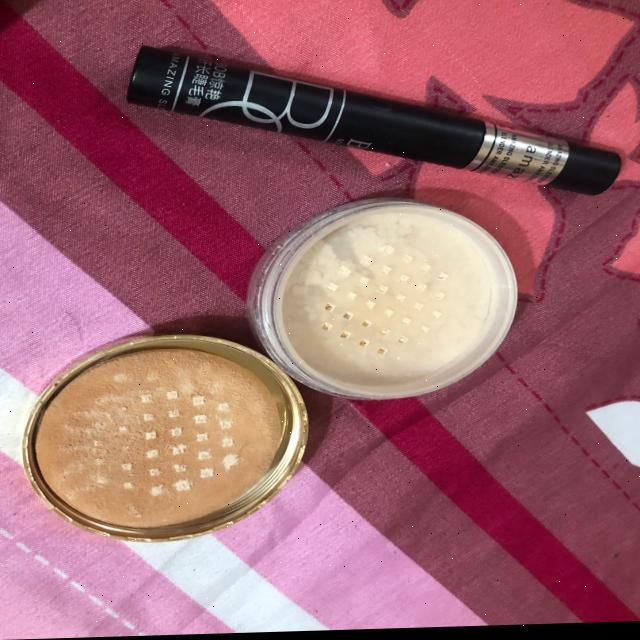mascara: (101, 15, 640, 221)
powder: (254, 201, 560, 403)
